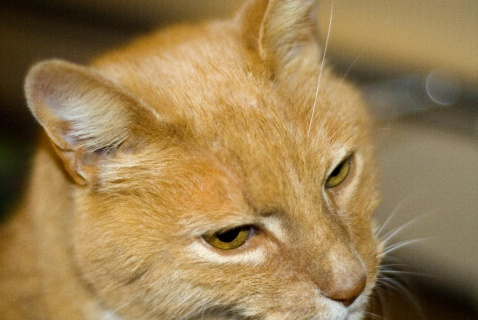Cat: (0, 0, 448, 319)
